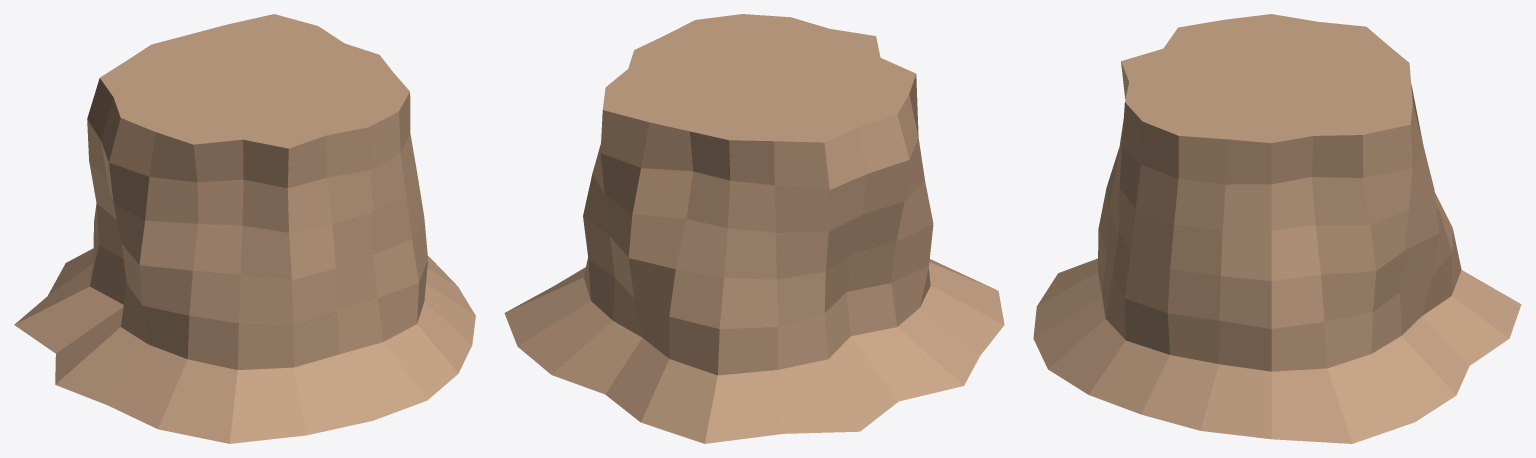
The model's file is mesa_b.glb.
The picture shows the model from 3 angles, left to right: view 1: azimuth 30°, elevation 25°; view 2: azimuth 150°, elevation 25°; view 3: azimuth 270°, elevation 25°; orthographic projection. The views are drawn at different scales.
Visible parts, largest first — view 1: Mesa; view 2: Mesa; view 3: Mesa.
Part boxes in pixels (x1=…): Mesa: x1=14, y1=14, x2=475, y2=443; Mesa: x1=504, y1=14, x2=1004, y2=443; Mesa: x1=1033, y1=14, x2=1521, y2=443.
Size of the model in its own units: 62.22 by 36.2 by 62.34.
